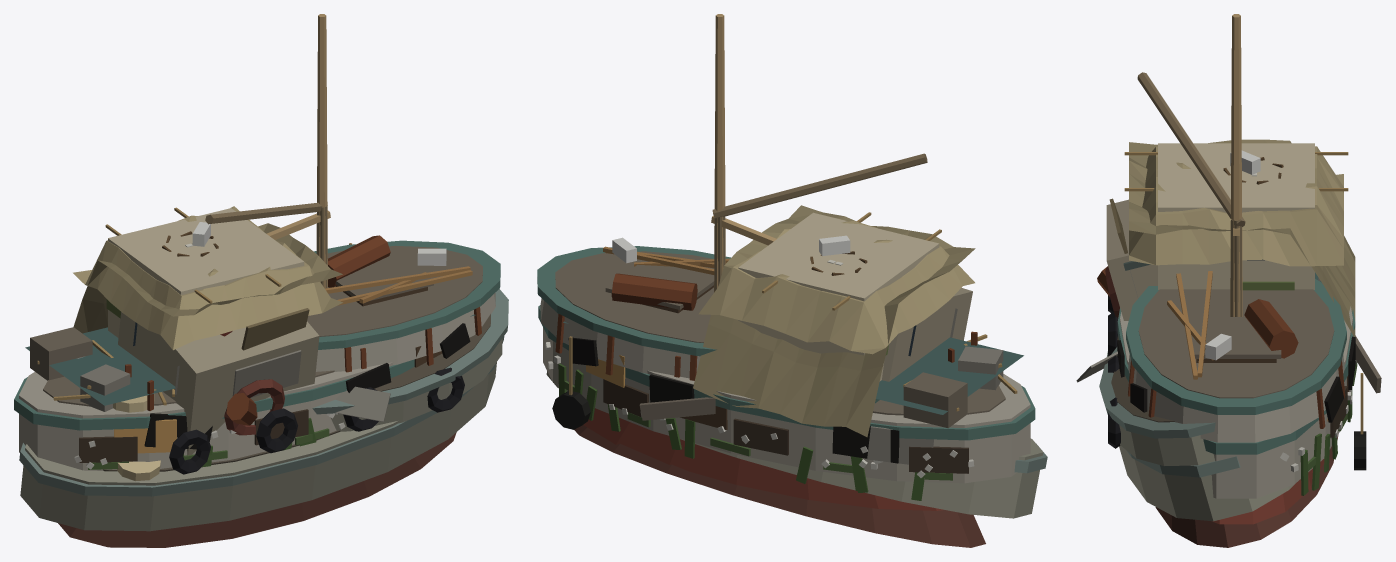
The model's file is boat_t0_fixer.glb.
The picture shows the model from 3 angles, left to right: view 1: azimuth 30°, elevation 25°; view 2: azimuth 150°, elevation 25°; view 3: azimuth 270°, elevation 25°; orthographic projection. The views are drawn at different scales.
Visible parts, largest first — view 1: BOAT_T0_WRECK, BOAT_T0_FIXED, BOAT_T0_FIXED__paint_roof, BOAT_T0_FIXED__paint_hull, BOAT_T0_FIXED__paint_cabin, BOAT_T0_FIXED__paint_stripe; view 2: BOAT_T0_WRECK, BOAT_T0_FIXED, BOAT_T0_FIXED__paint_hull, BOAT_T0_FIXED__paint_roof, BOAT_T0_FIXED__paint_cabin, BOAT_T0_FIXED__paint_stripe; view 3: BOAT_T0_WRECK, BOAT_T0_FIXED, BOAT_T0_FIXED__paint_roof, BOAT_T0_FIXED__paint_cabin, BOAT_T0_FIXED__paint_hull, BOAT_T0_FIXED__paint_stripe.
Boxes of the visible parts, x1,y1,x2,y2 form: BOAT_T0_WRECK: [19, 202, 508, 547]; BOAT_T0_FIXED: [30, 14, 482, 474]; BOAT_T0_FIXED__paint_roof: [73, 206, 342, 350]; BOAT_T0_FIXED__paint_hull: [19, 292, 495, 470]; BOAT_T0_FIXED__paint_cabin: [108, 208, 304, 337]; BOAT_T0_FIXED__paint_stripe: [14, 240, 500, 430]; BOAT_T0_WRECK: [545, 153, 1047, 547]; BOAT_T0_FIXED: [555, 14, 1005, 510]; BOAT_T0_FIXED__paint_hull: [540, 298, 1030, 483]; BOAT_T0_FIXED__paint_roof: [698, 220, 974, 354]; BOAT_T0_FIXED__paint_cabin: [738, 212, 939, 381]; BOAT_T0_FIXED__paint_stripe: [537, 246, 1035, 440]; BOAT_T0_WRECK: [1097, 72, 1381, 547]; BOAT_T0_FIXED: [1076, 14, 1357, 524]; BOAT_T0_FIXED__paint_roof: [1129, 146, 1343, 266]; BOAT_T0_FIXED__paint_cabin: [1158, 143, 1314, 289]; BOAT_T0_FIXED__paint_hull: [1120, 306, 1352, 498]; BOAT_T0_FIXED__paint_stripe: [1117, 279, 1355, 454].
Bounding box in the file's own units: 6.5 × 6.12 × 3.41.
